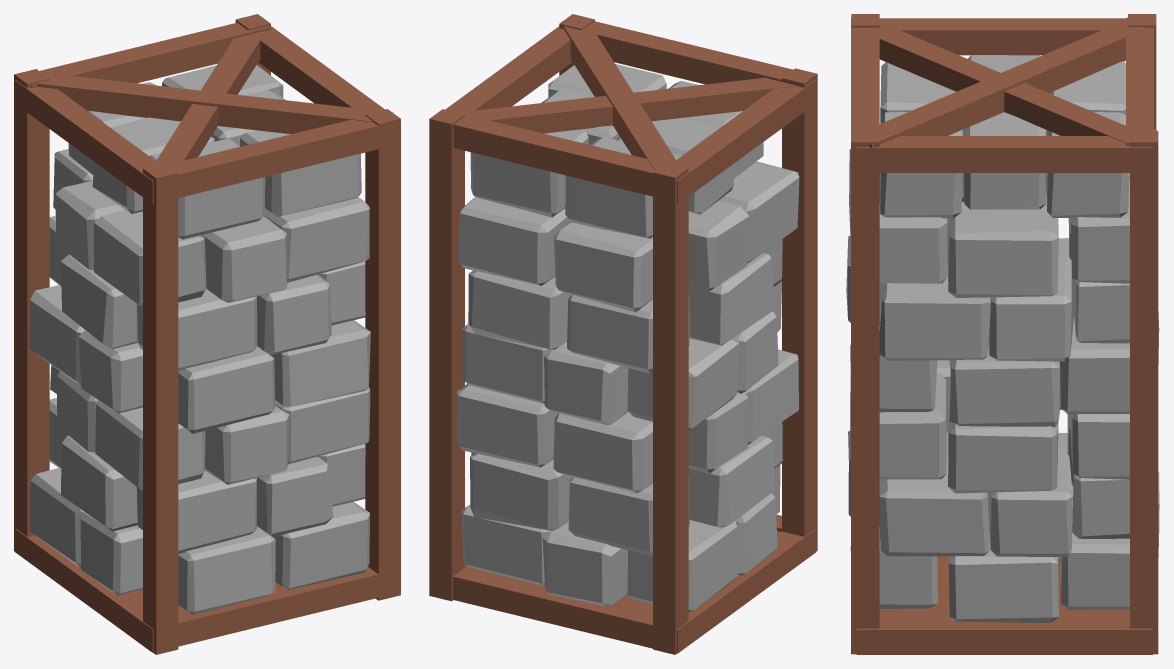
File: LightStoneDecorationTallConstructionBrickContainer1.fbx
3 views of the same model, side by side, from view 1: azimuth 30°, elevation 25°; view 2: azimuth 150°, elevation 25°; view 3: azimuth 270°, elevation 25° (orthographic). The views are drawn at different scales.
Parts seen in each view (by area): view 1: LightStoneDecorationTallConstructionBrickContainer1; view 2: LightStoneDecorationTallConstructionBrickContainer1; view 3: LightStoneDecorationTallConstructionBrickContainer1.
Boxes of the visible parts, x1,y1,x2,y2 form: LightStoneDecorationTallConstructionBrickContainer1: [14, 14, 400, 654]; LightStoneDecorationTallConstructionBrickContainer1: [429, 14, 817, 654]; LightStoneDecorationTallConstructionBrickContainer1: [846, 14, 1159, 654].
Bounding box in the file's own units: 241 × 430 × 239.
